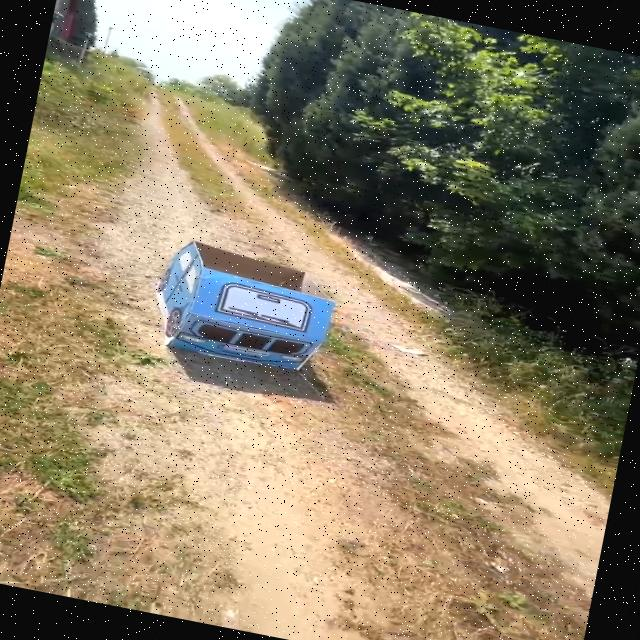blue_car: (127, 219, 354, 398)
